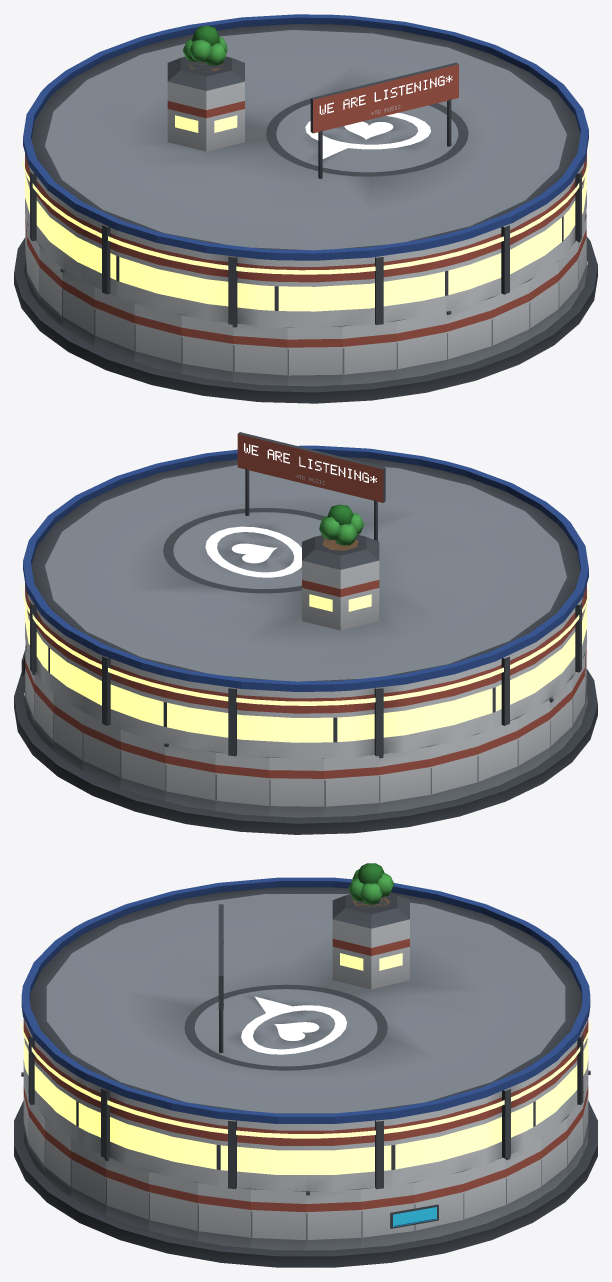
The model's file is hr_office_s.glb.
3 renders of one model, top to bottom at view 1: azimuth 30°, elevation 25°; view 2: azimuth 150°, elevation 25°; view 3: azimuth 270°, elevation 25°, orthographic.
Parts seen in each view (by area): view 1: Roof, Base, PorchTop, Upper_20, Upper_21, Upper_22, Wall_21, Upper_19, Upper_23, Wall_22, Wall_20, Wall_19 (+24 smaller); view 2: Roof, Base, PorchTop, Upper_11, Upper_10, Upper_09, Wall_10, Upper_12, Upper_08, Wall_09, Wall_11, Wall_12 (+23 smaller); view 3: Roof, Base, Upper_00, Upper_31, Upper_01, Upper_30, PorchTop, Wall_00, Wall_31, Upper_02, Upper_29, Wall_30 (+23 smaller).
Boxes of the visible parts, x1,y1,x2,y2 form: Roof: (23, 14, 588, 253); Base: (14, 236, 597, 403); PorchTop: (21, 62, 590, 274); Upper_20: (232, 256, 287, 327); Upper_21: (287, 259, 342, 327); Upper_22: (342, 254, 395, 325); Wall_21: (287, 326, 342, 386); Upper_19: (182, 248, 233, 324); Upper_23: (396, 245, 446, 320); Wall_22: (342, 320, 396, 384); Wall_20: (232, 323, 287, 385); Wall_19: (181, 314, 233, 381); Roof: (23, 445, 588, 684); Base: (14, 669, 597, 834); PorchTop: (21, 432, 590, 705); Upper_11: (324, 687, 379, 758); Upper_10: (269, 690, 324, 759); Upper_09: (216, 685, 269, 756); Wall_10: (269, 757, 324, 817); Upper_12: (378, 679, 429, 755); Upper_08: (165, 676, 215, 751); Wall_09: (215, 752, 269, 816); Wall_11: (324, 754, 378, 817); Wall_12: (378, 746, 430, 813); Roof: (21, 863, 590, 1116); Base: (14, 1101, 597, 1267); Upper_00: (306, 1122, 360, 1191); Upper_31: (251, 1122, 305, 1191); Upper_01: (360, 1115, 413, 1189); Upper_30: (198, 1115, 251, 1189); PorchTop: (21, 904, 590, 1138); Wall_00: (306, 1188, 360, 1250); Wall_31: (251, 1188, 305, 1250); Upper_02: (413, 1104, 462, 1181); Upper_29: (149, 1104, 198, 1181); Wall_30: (197, 1182, 250, 1248).
Size of the model in its own units: 11.74 by 5.5 by 11.74.
